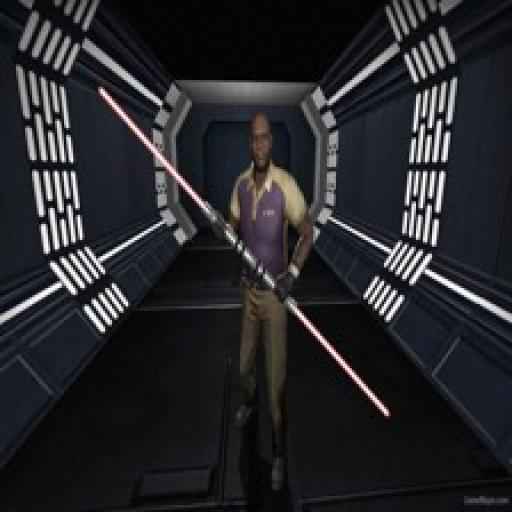human: (219, 116, 317, 493)
sith saber: (95, 80, 394, 421)
